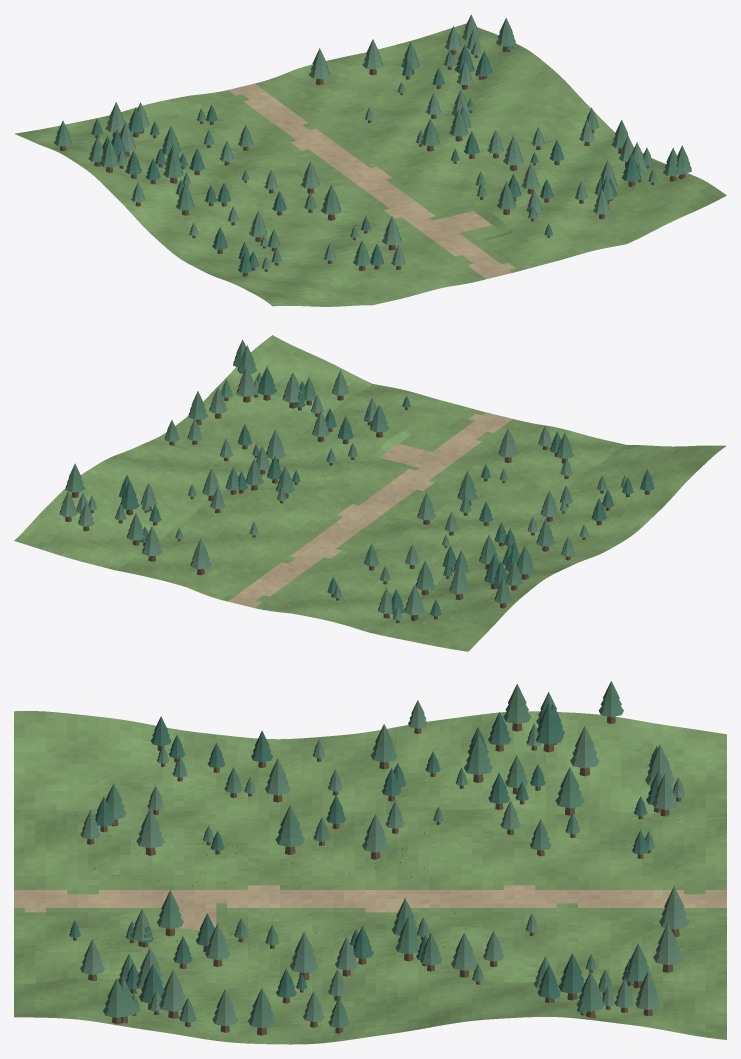
File: station.glb
3 renders of one model, top to bottom at view 1: azimuth 30°, elevation 25°; view 2: azimuth 150°, elevation 25°; view 3: azimuth 270°, elevation 25°, orthographic. The views are drawn at different scales.
Visible parts, largest first — view 1: station; view 2: station; view 3: station.
Part boxes in pixels (x1,y1,x2,y2): station: (14, 14, 726, 306); station: (14, 335, 726, 651); station: (14, 681, 726, 1044).
Size of the model in its own units: 68.28 by 7.98 by 67.
